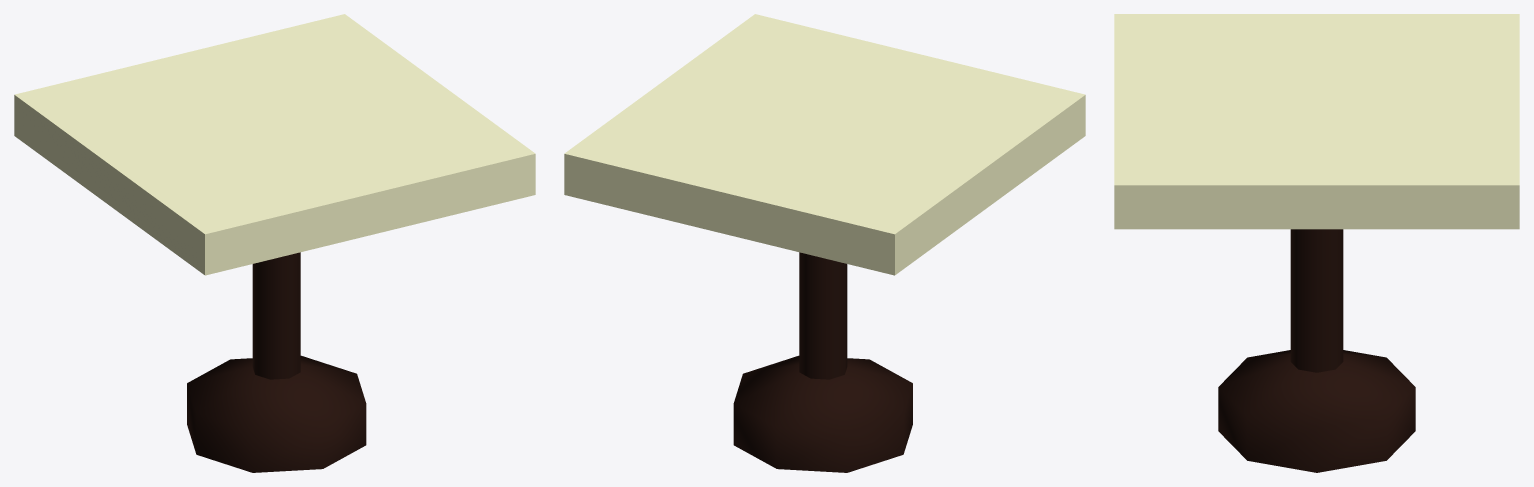
Rendered from Table_01.fbx.
3 views of the same model, side by side, from view 1: azimuth 30°, elevation 25°; view 2: azimuth 150°, elevation 25°; view 3: azimuth 270°, elevation 25° (orthographic). The views are drawn at different scales.
Visible parts, largest first — view 1: Table_01; view 2: Table_01; view 3: Table_01.
Boxes of the visible parts, x1,y1,x2,y2 form: Table_01: (14, 14, 535, 472); Table_01: (564, 14, 1085, 472); Table_01: (1114, 14, 1519, 472).
Size of the model in its own units: 39.37 by 35.43 by 39.37.
